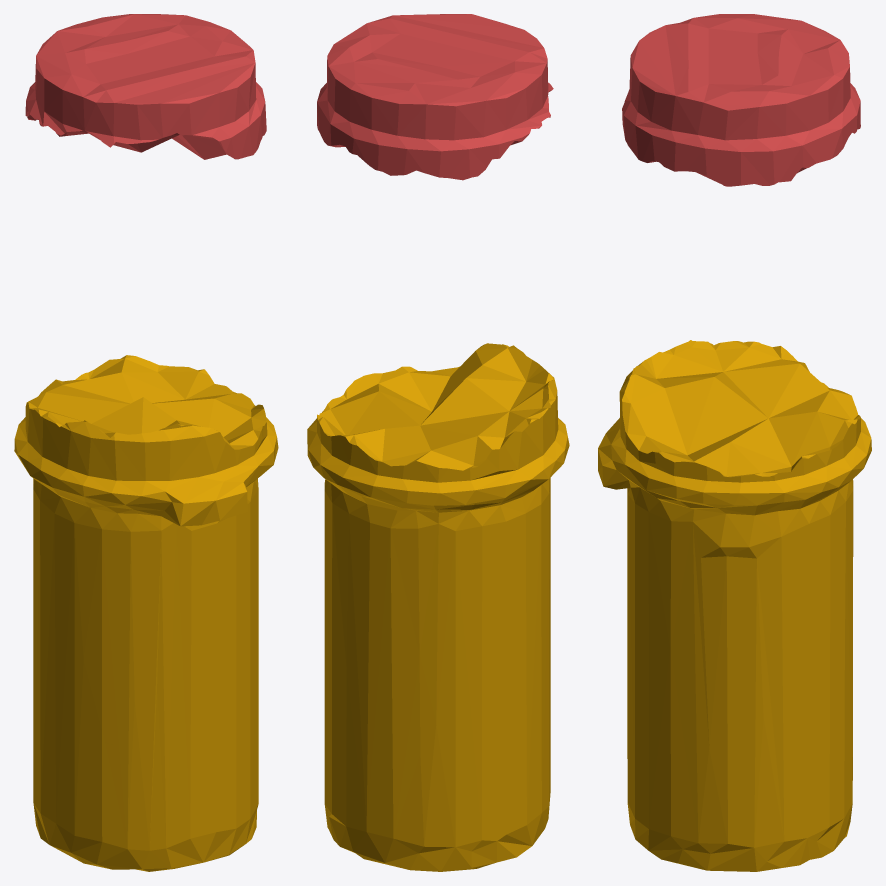
Rendered from fractured_64_2pcs_transformed.glb.
The picture shows the model from 3 angles, left to right: view 1: azimuth 30°, elevation 25°; view 2: azimuth 150°, elevation 25°; view 3: azimuth 270°, elevation 25°; orthographic projection.
Visible parts, largest first — view 1: piece_0.obj, piece_1.obj; view 2: piece_0.obj, piece_1.obj; view 3: piece_0.obj, piece_1.obj.
Boxes of the visible parts, x1,y1,x2,y2 form: piece_0.obj: [14, 355, 278, 871]; piece_1.obj: [25, 14, 266, 159]; piece_0.obj: [307, 343, 569, 871]; piece_1.obj: [317, 14, 553, 180]; piece_0.obj: [598, 340, 871, 871]; piece_1.obj: [622, 14, 860, 186].
Bounding box in the file's own units: 0.4915 × 1.6 × 0.5126.
